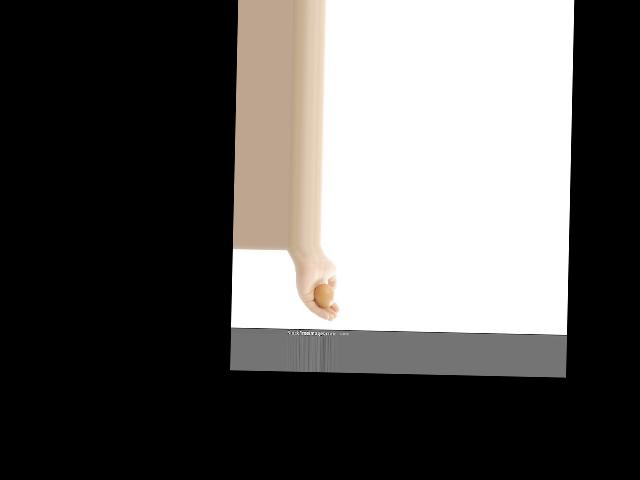egg: (314, 283, 334, 309)
